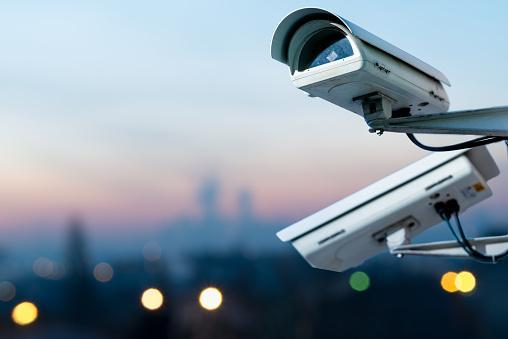camera: (262, 104, 498, 320), (253, 1, 466, 153)
